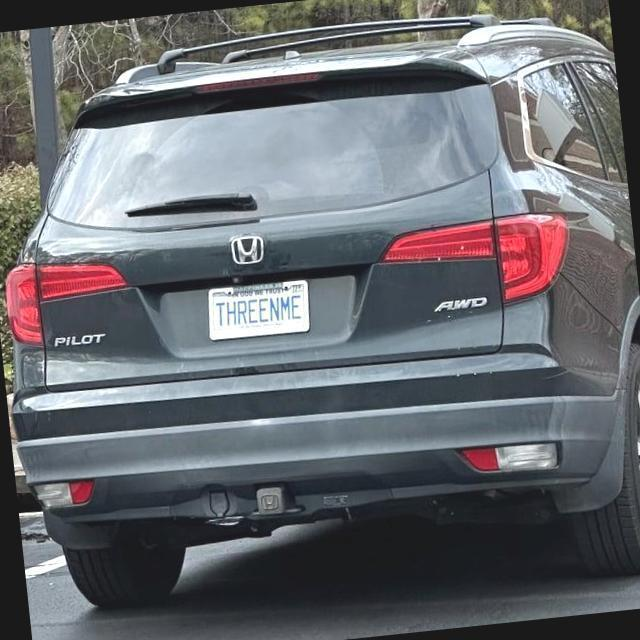license-plate: (197, 266, 316, 338)
